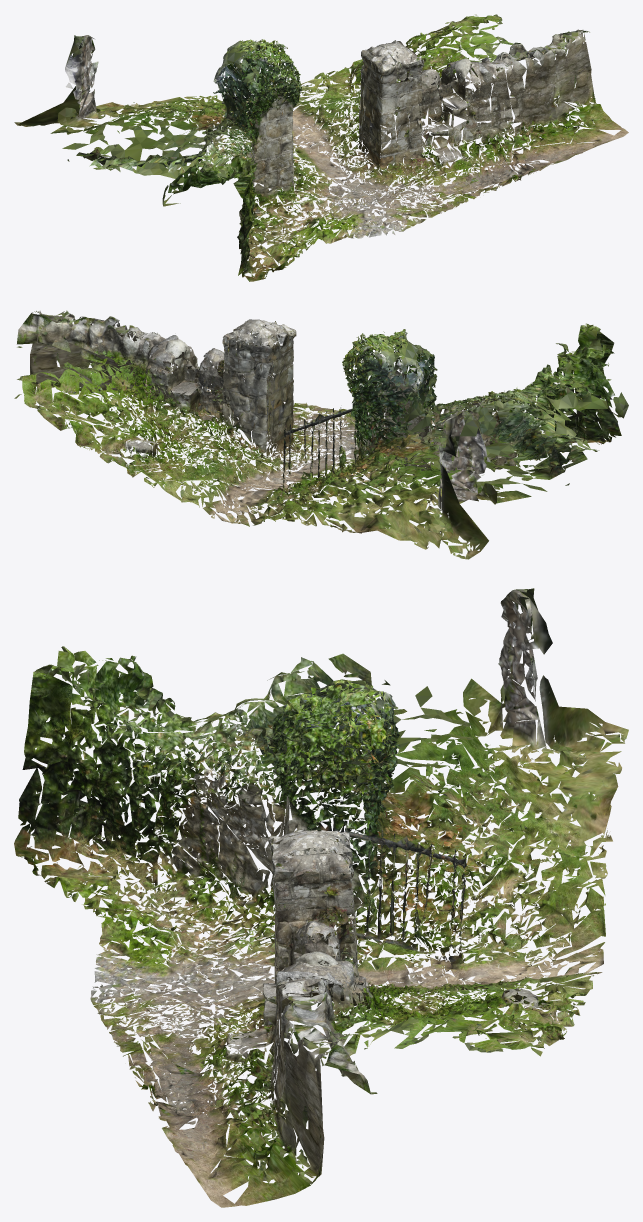
The model's file is gwGate.glb.
3 renders of one model, top to bottom at view 1: azimuth 30°, elevation 25°; view 2: azimuth 150°, elevation 25°; view 3: azimuth 270°, elevation 25°, orthographic. The views are drawn at different scales.
Visible parts, largest first — view 1: Object_10, Object_2, Object_6, Object_14; view 2: Object_10, Object_6, Object_14, Object_2; view 3: Object_10, Object_6, Object_14, Object_2.
Part boxes in pixels (box(x1,y1,x2,y2)): Object_10: box(14, 14, 595, 277); Object_2: box(66, 20, 587, 275); Object_6: box(66, 30, 628, 281); Object_14: box(27, 25, 613, 276); Object_10: box(14, 311, 628, 559); Object_6: box(30, 310, 611, 545); Object_14: box(53, 314, 621, 553); Object_2: box(17, 313, 614, 547); Object_10: box(19, 588, 628, 1184); Object_6: box(14, 633, 615, 1207); Object_14: box(18, 598, 624, 1195); Object_2: box(22, 598, 612, 1159).
Size of the model in its own units: 89.73 by 25.16 by 54.84.
4 materials, 4 textured.
